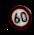Speed Limit -60-: (5, 3, 32, 31)
